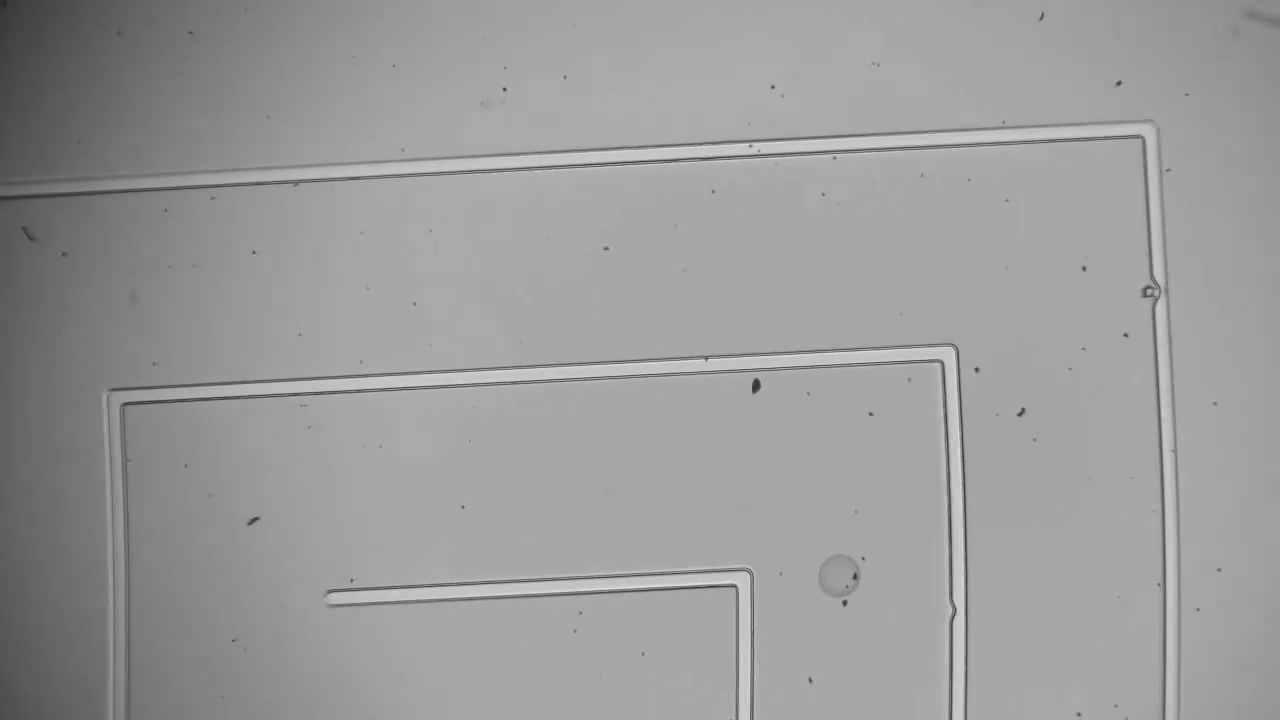edge_bite: (1131, 265, 1177, 315), (935, 591, 976, 627)
